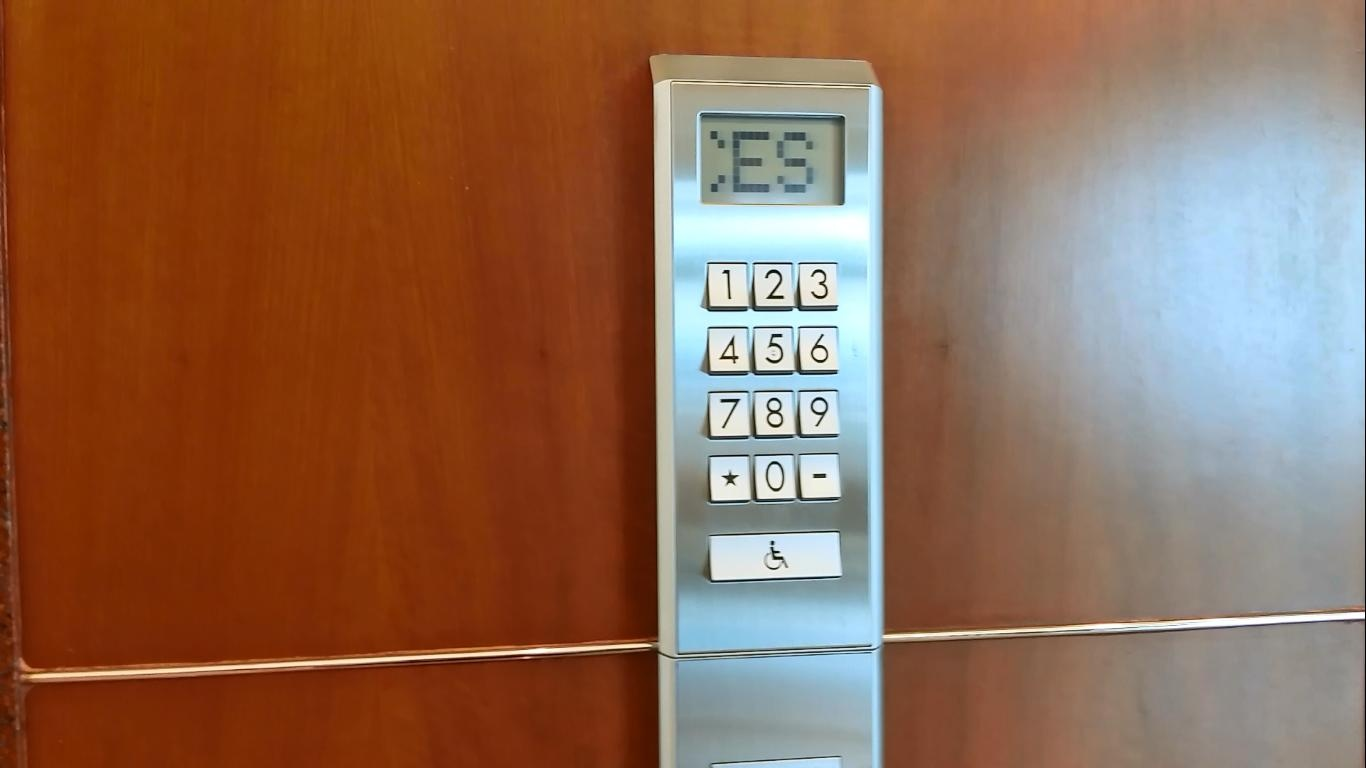-: (797, 450, 842, 504)
0: (753, 451, 796, 504)
1: (705, 261, 750, 312)
2: (751, 260, 796, 313)
3: (796, 259, 841, 310)
4: (705, 324, 750, 377)
5: (751, 323, 795, 377)
6: (796, 323, 841, 376)
7: (707, 388, 751, 439)
8: (752, 388, 797, 439)
9: (797, 387, 842, 438)
CH: (706, 529, 845, 584)
led: (695, 108, 848, 208)
s: (708, 451, 752, 505)
